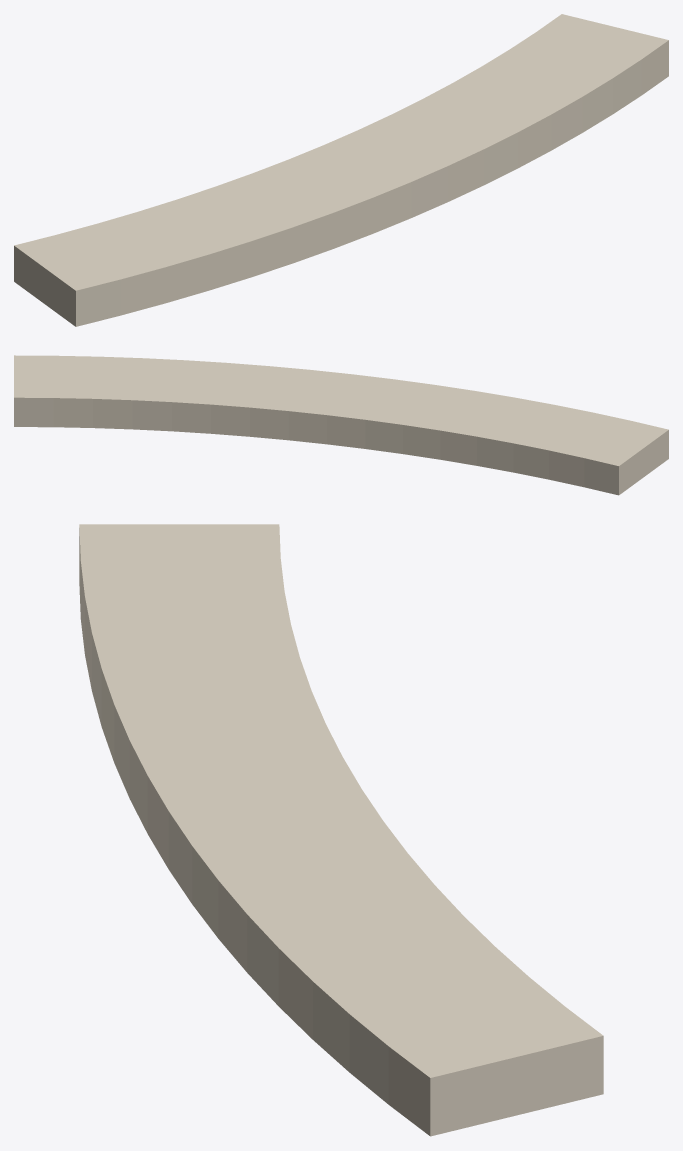
Rendered from ArcCoping_R4_A30.glb.
3 renders of one model, top to bottom at view 1: azimuth 30°, elevation 25°; view 2: azimuth 150°, elevation 25°; view 3: azimuth 270°, elevation 25°, orthographic. The views are drawn at different scales.
Visible parts, largest first — view 1: PBK_Coping.012; view 2: PBK_Coping.012; view 3: PBK_Coping.012.
Part boxes in pixels (left/top/right/bottom): PBK_Coping.012: left=14, top=14, right=668, bottom=326; PBK_Coping.012: left=14, top=355, right=668, bottom=495; PBK_Coping.012: left=79, top=524, right=603, bottom=1136.
Size of the model in its own units: 2.03 by 0.1 by 0.8124.
